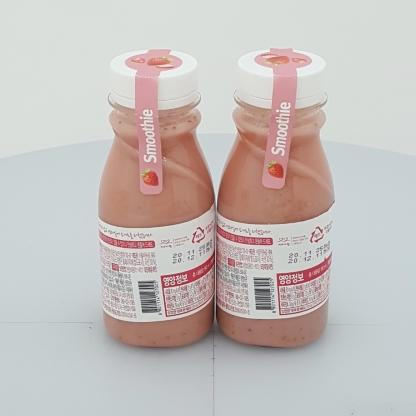--------------------190ML: (216, 48, 335, 348), (98, 49, 216, 348)
